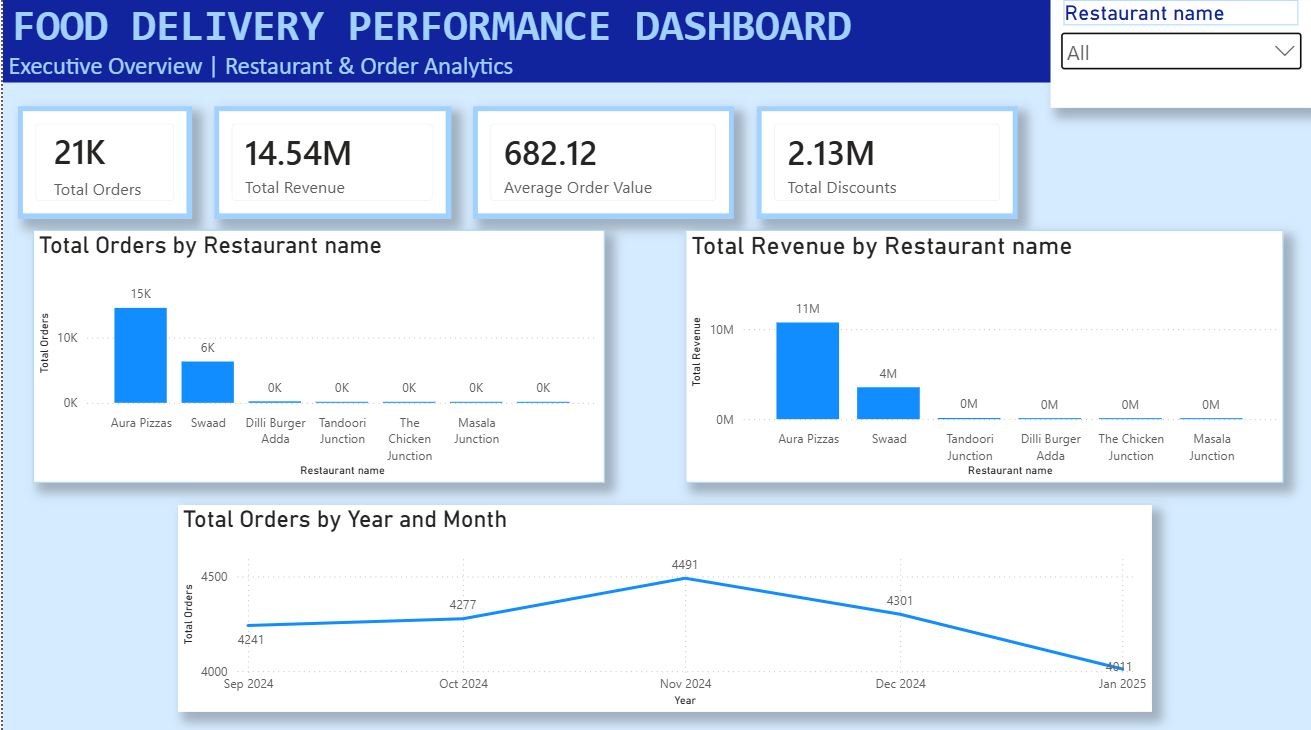

Layout of this report page (visuals, bound fields, positions):
{"tool":"powerbi","page":{"name":"EXECUTIVE OVERVIEW","canvas":[1280,720],"ordinal":0},"visuals":[{"type":"cardVisual","fields":{"Data":["order_history_kaggle_data.Total Orders"]},"box":[14.1,108.6,170.6,110.6],"z":0},{"type":"cardVisual","fields":{"Data":["order_history_kaggle_data.Total Revenue"]},"box":[206.7,108.6,231.8,110.6],"z":1000},{"type":"cardVisual","fields":{"Data":["order_history_kaggle_data.Average Order Value"]},"box":[460.4,108.6,255.3,110.6],"z":2000},{"type":"cardVisual","fields":{"Data":["order_history_kaggle_data.Total Discounts"]},"box":[737.6,108.6,255.3,110.6],"z":3000},{"type":"columnChart","fields":{"Category":["order_history_kaggle_data.Restaurant name"],"Y":["order_history_kaggle_data.Total Revenue"]},"box":[667.1,229.4,584.7,247.1],"z":4000},{"type":"lineChart","fields":{"Category":["order_history_kaggle_data.Order Placed At.Variation.Date Hierarchy.Year","order_history_kaggle_data.Order Placed At.Variation.Date Hierarchy.Month"],"Y":["order_history_kaggle_data.Total Orders"]},"box":[171.8,498.8,952.9,202.4],"z":5000},{"type":"clusteredColumnChart","fields":{"Category":["order_history_kaggle_data.Restaurant name"],"Y":["order_history_kaggle_data.Total Orders"]},"box":[29.4,229.4,558.8,247.1],"z":7000},{"type":"textbox","box":[0,0,1280,85.9],"z":8000},{"type":"slicer","fields":{"Values":["order_history_kaggle_data.Restaurant name"]},"box":[1024.7,0,255.3,110.6],"z":8500}]}

Visuals, with their boxes in screenshot pixels (x1, y1, x2, y2), scaled from the page's 1280x720 canvas onto the 1311x730 screenshot:
cardVisual - order_history_kaggle_data.Total Orders: bbox(14, 110, 189, 222)
cardVisual - order_history_kaggle_data.Total Revenue: bbox(212, 110, 449, 222)
cardVisual - order_history_kaggle_data.Average Order Value: bbox(472, 110, 733, 222)
cardVisual - order_history_kaggle_data.Total Discounts: bbox(755, 110, 1017, 222)
columnChart - order_history_kaggle_data.Restaurant name x order_history_kaggle_data.Total Revenue: bbox(683, 233, 1282, 483)
lineChart - order_history_kaggle_data.Order Placed At.Variation.Date Hierarchy.Year x order_history_kaggle_data.Order Placed At.Variation.Date Hierarchy.Month: bbox(176, 506, 1152, 711)
clusteredColumnChart - order_history_kaggle_data.Restaurant name x order_history_kaggle_data.Total Orders: bbox(30, 233, 602, 483)
textbox: bbox(0, 0, 1310, 87)
slicer - order_history_kaggle_data.Restaurant name: bbox(1050, 0, 1310, 112)
